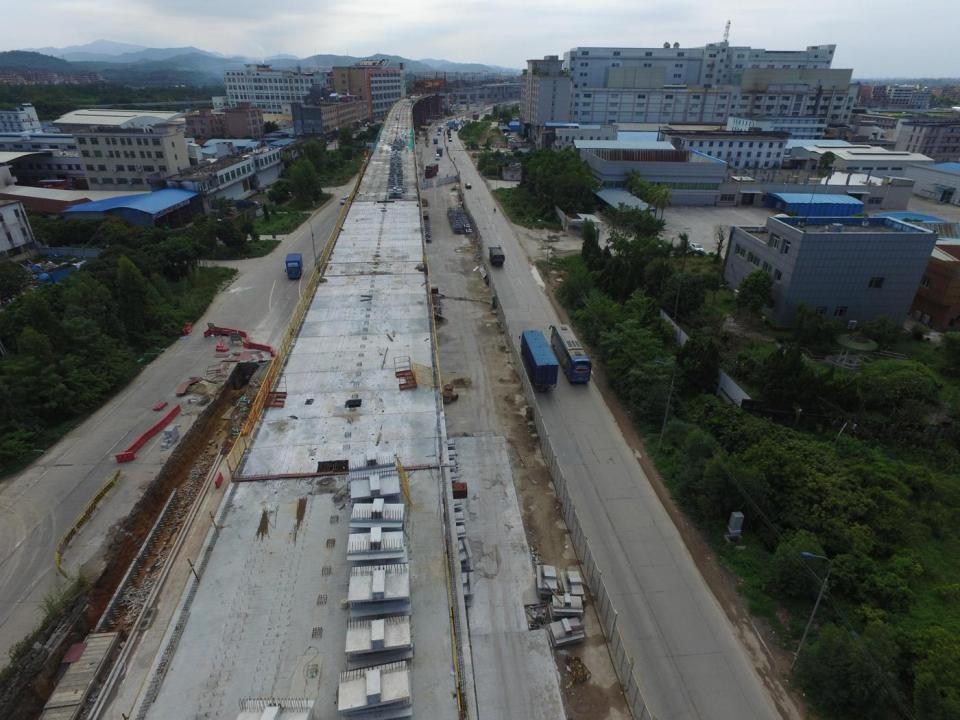bus: (437, 146, 442, 156), (454, 126, 458, 130)
car: (689, 243, 704, 251), (466, 183, 470, 189), (437, 132, 440, 136), (449, 139, 452, 141)
truck: (550, 325, 592, 385), (521, 330, 558, 390), (285, 253, 303, 280), (488, 245, 505, 265), (424, 163, 438, 178), (472, 115, 480, 120), (436, 126, 442, 132), (434, 138, 438, 144), (446, 129, 450, 134), (448, 133, 451, 138)
van: (340, 196, 349, 204), (435, 154, 439, 160)
